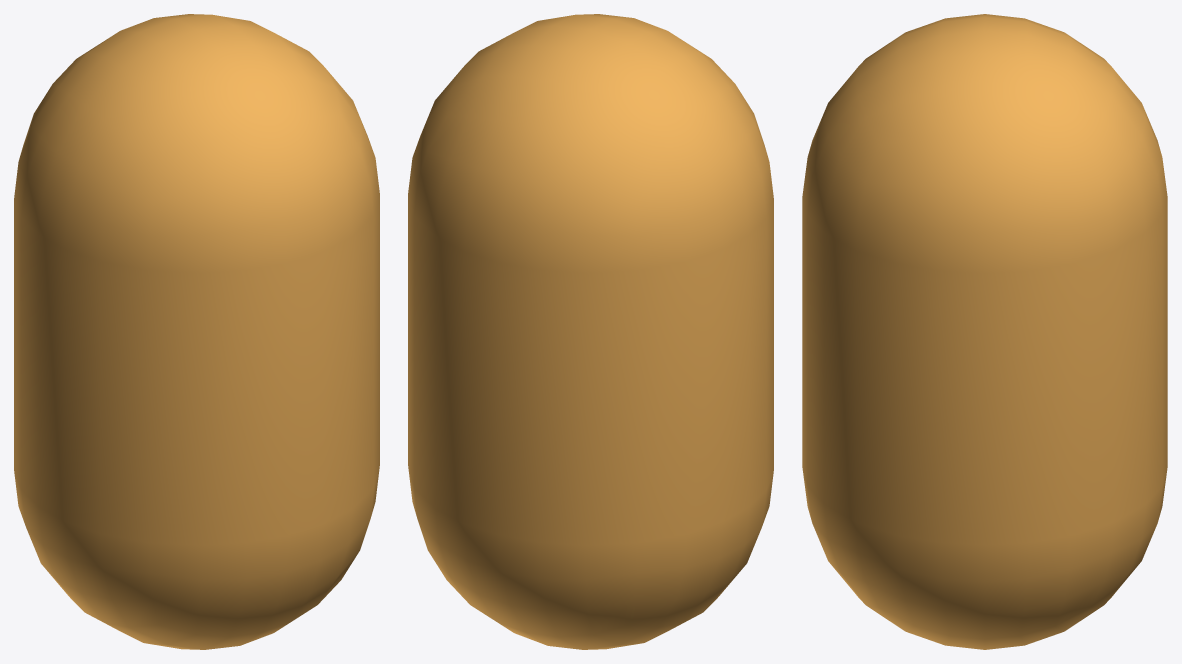
3 views of the same model, side by side, from view 1: azimuth 30°, elevation 25°; view 2: azimuth 150°, elevation 25°; view 3: azimuth 270°, elevation 25° (orthographic).
Visible parts, largest first — view 1: Capsule_01; view 2: Capsule_01; view 3: Capsule_01.
Part boxes in pixels (x1,y1,x2,y2): Capsule_01: (14, 14, 379, 649); Capsule_01: (408, 14, 773, 649); Capsule_01: (802, 14, 1167, 649).
Bounding box in the file's own units: 222 × 404 × 222.
